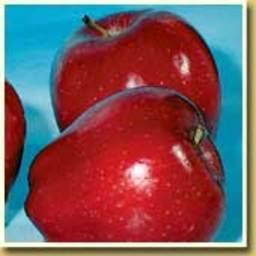apple: (26, 87, 227, 243), (49, 9, 222, 144)
